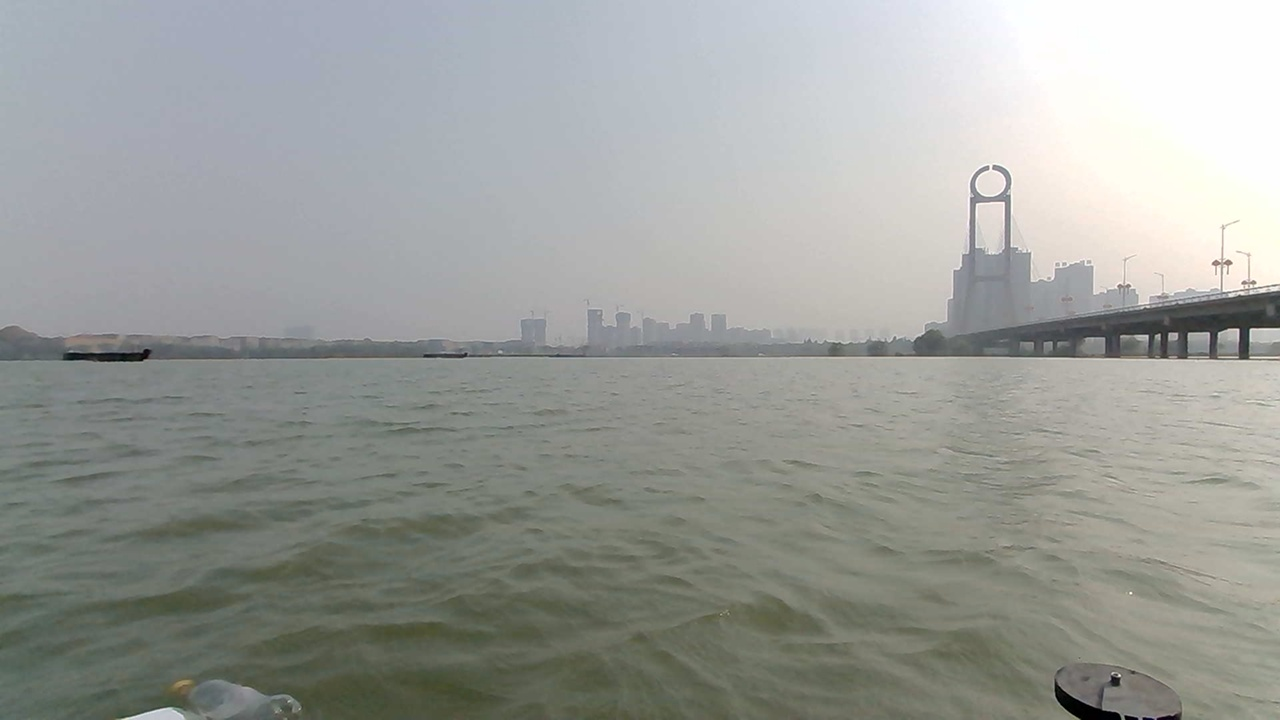bottle: (123, 656, 305, 720)
